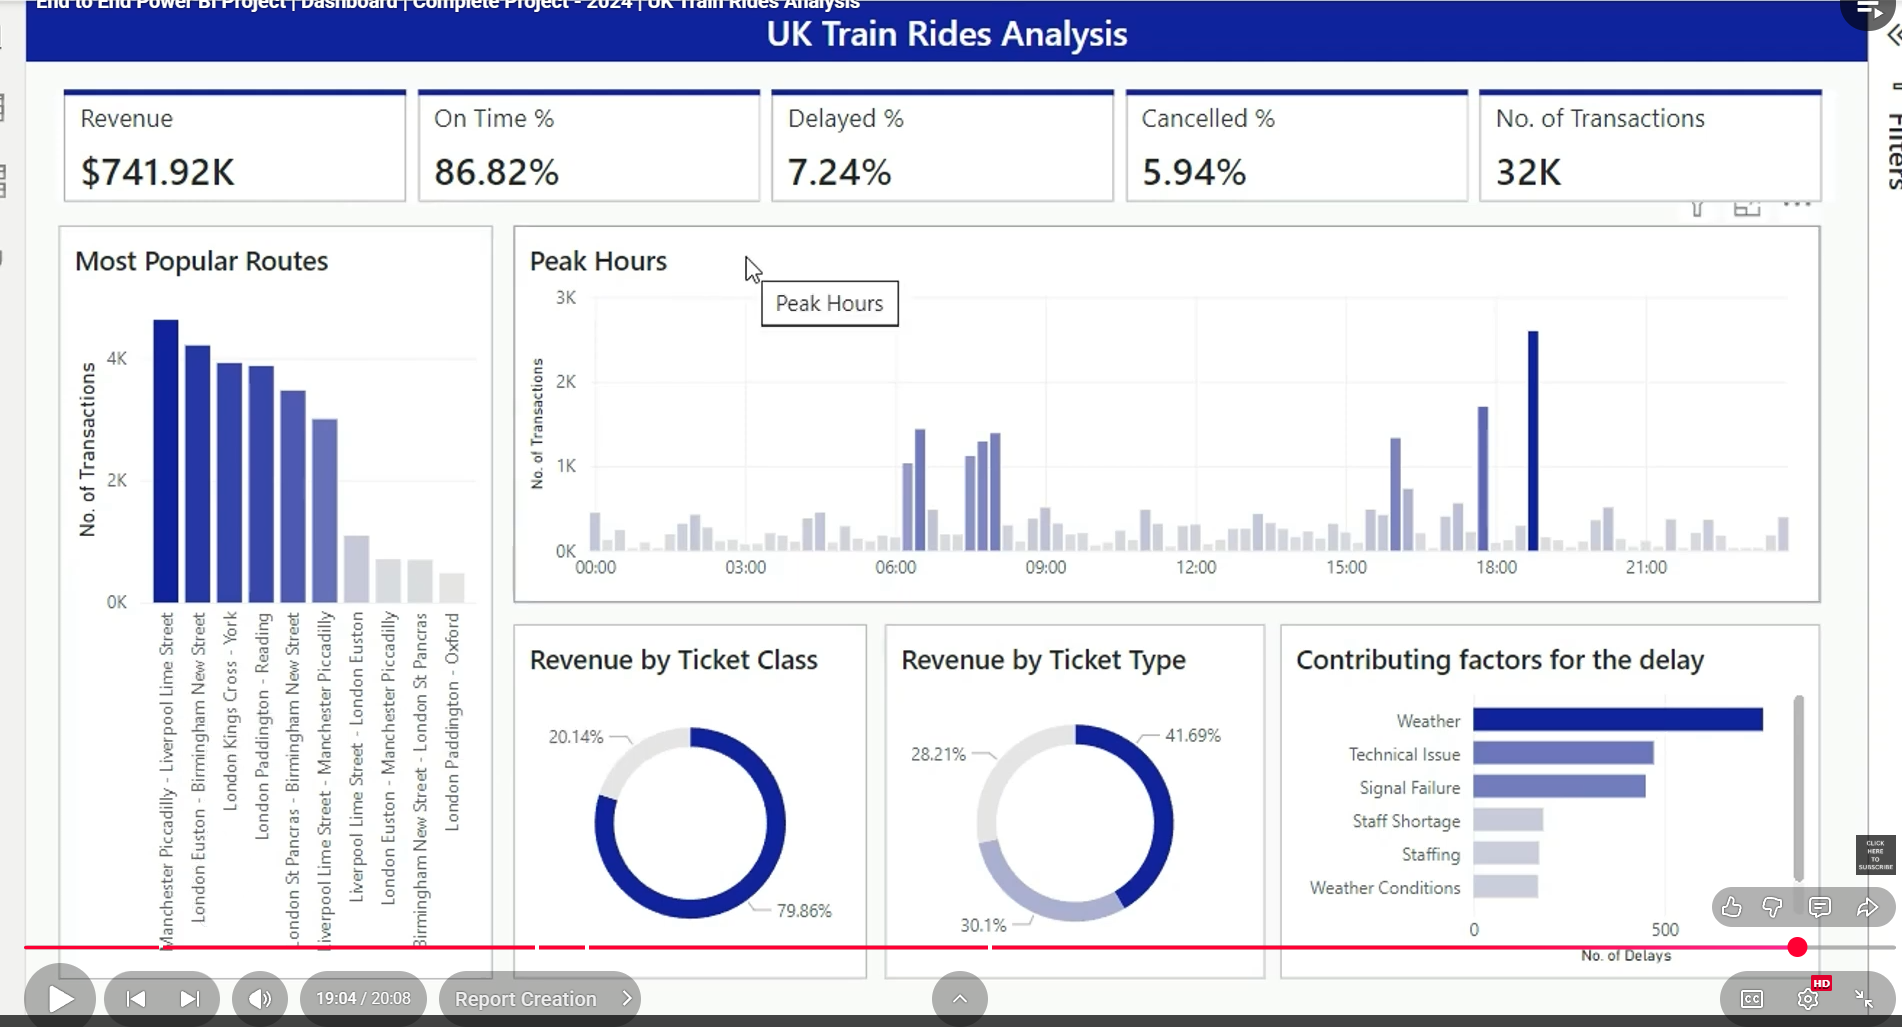

This screenshot's page, from the dashboard's own definition file:
{"tool":"powerbi","page":{"name":"Page 1","canvas":[1280,720],"ordinal":0},"visuals":[{"type":"columnChart","title":"Most Popular Routes","fields":{"Category":["railway.Most Popular Routes"],"Y":["Measures List.No. of Transactions"]},"box":[21.5,185.4,274.9,509.6],"z":0},{"type":"columnChart","title":"Peak Hours","fields":{"Y":["Measures List.No. of Transactions"],"Category":["railway.Departure Time"]},"box":[316.1,185.4,945.7,251.6],"z":1},{"type":"donutChart","fields":{"Y":["Measures List.Revenue"],"Category":["railway.Ticket Class"]},"box":[596.4,456.7,260.6,237.3],"z":2},{"type":"donutChart","fields":{"Y":["Measures List.Revenue"],"Category":["railway.Ticket Type"]},"box":[316.1,456.7,259.7,237.3],"z":3},{"type":"barChart","title":"Contributing Factors for the delay","fields":{"Y":["Measures List.No. of Delays"],"Category":["railway.Reason for Delay"]},"box":[880.3,456.7,381.5,238.2],"z":4},{"type":"shape","box":[15.2,0,1254.7,60.7],"z":5},{"type":"cardVisual","fields":{"Data":["Measures List.Revenue","Measures List.On Time %","Measures List.Delayed %","Measures List.Cancelled %","Measures List.No. of Transactions"]},"box":[15.2,71.8,1254.7,96.1],"z":6}]}

Visuals, with their boxes on the page's 1280x720 design canvas (x1, y1, x2, y2). These are canvas units, not pixel positions in the 1902x1027 screenshot, which may show the page scaled, cropped or inside an application window:
"Most Popular Routes" columnChart: box(22, 185, 296, 695)
"Peak Hours" columnChart: box(316, 185, 1262, 437)
donutChart - Measures List.Revenue x railway.Ticket Class: box(596, 457, 857, 694)
donutChart - Measures List.Revenue x railway.Ticket Type: box(316, 457, 576, 694)
"Contributing Factors for the delay" barChart: box(880, 457, 1262, 695)
shape: box(15, 0, 1270, 61)
cardVisual - Measures List.Revenue x Measures List.On Time %: box(15, 72, 1270, 168)
